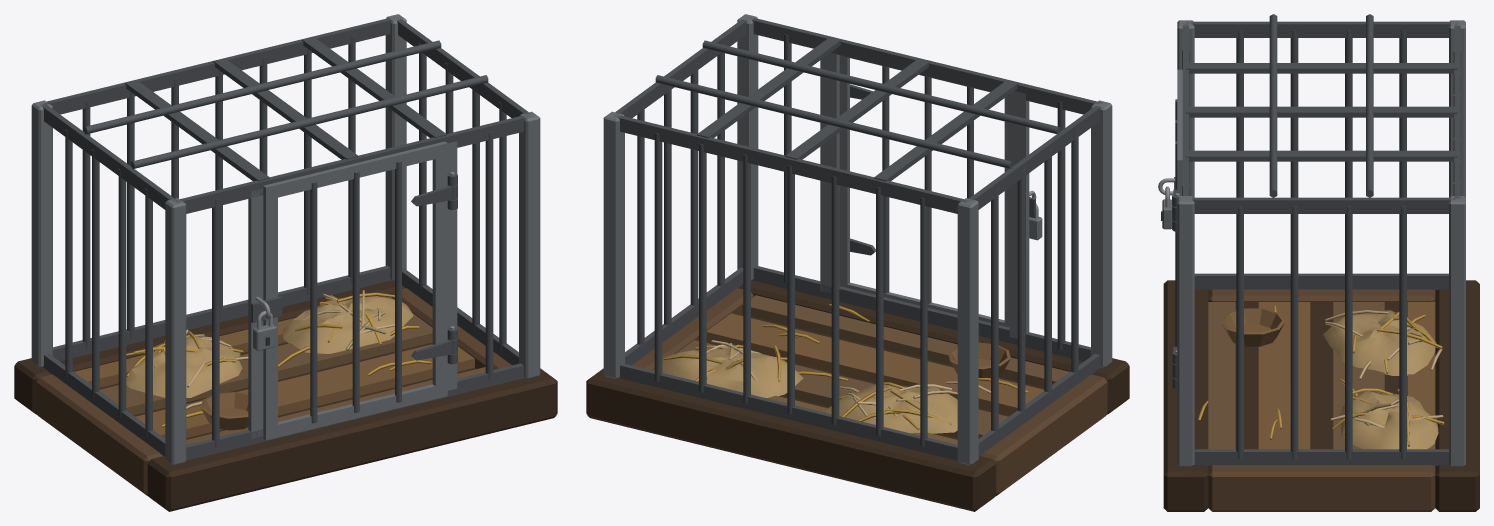
The model's file is SM_LPD_Prison_CageFloor_01.fbx.
The picture shows the model from 3 angles, left to right: view 1: azimuth 30°, elevation 25°; view 2: azimuth 150°, elevation 25°; view 3: azimuth 270°, elevation 25°; orthographic projection.
Visible parts, largest first — view 1: SM_LPD_Prison_CageFloor_01; view 2: SM_LPD_Prison_CageFloor_01; view 3: SM_LPD_Prison_CageFloor_01.
Part boxes in pixels (x1,y1,x2,y2): SM_LPD_Prison_CageFloor_01: (14, 14, 557, 511); SM_LPD_Prison_CageFloor_01: (586, 14, 1129, 511); SM_LPD_Prison_CageFloor_01: (1158, 14, 1479, 511).
Size of the model in its own units: 1.34 by 1.01 by 0.9359.
